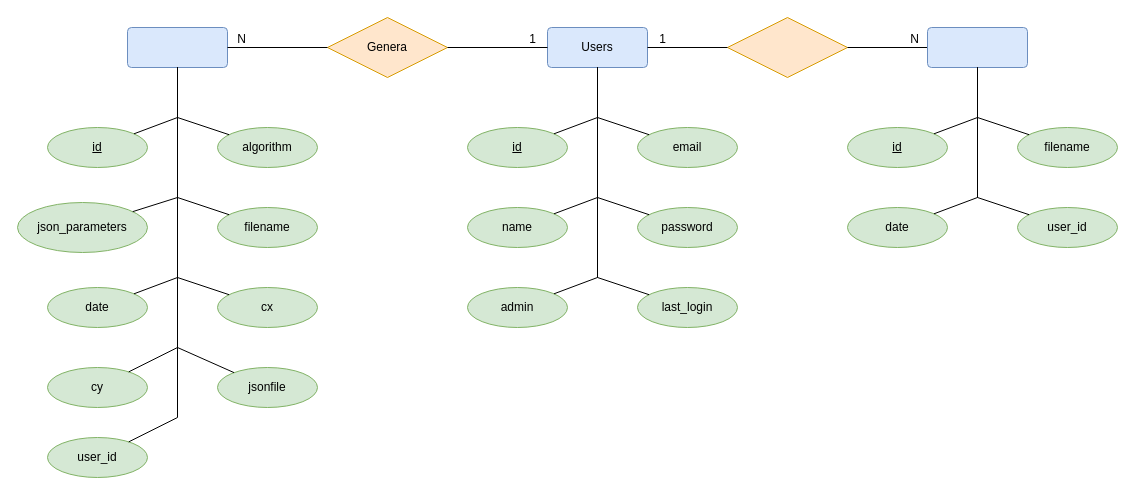
Some shapes in this 1135 by 495 pixel diagram are drawn without their labels. The shapes that lost their labels are listed below. From the top down, each one's centre as x and y in pixels, then its label:
point 177,47: Runs
point 787,47: Sube
point 977,47: Datasets
